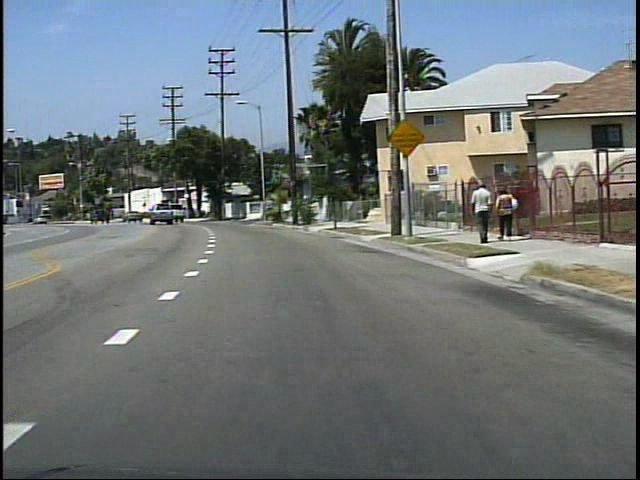person: (490, 186, 517, 244), (468, 178, 490, 245)
